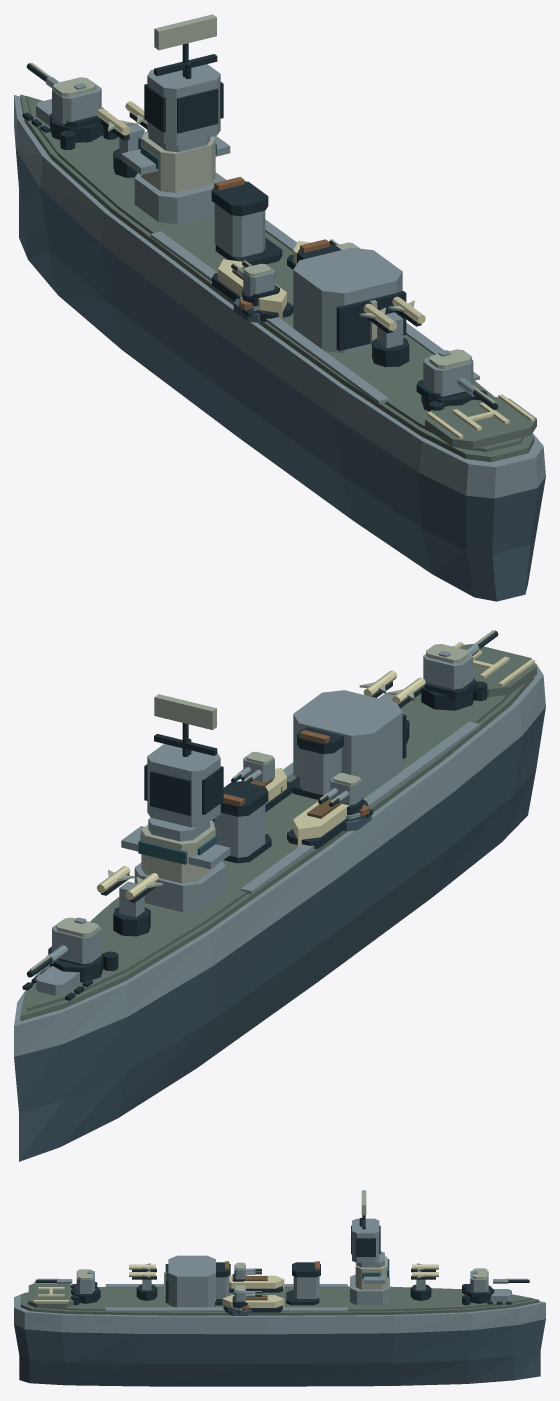
File: historic-kidd.glb
3 renders of one model, top to bottom at view 1: azimuth 30°, elevation 25°; view 2: azimuth 150°, elevation 25°; view 3: azimuth 270°, elevation 25°, orthographic. The views are drawn at different scales.
Visible parts, largest first — view 1: historic-kidd-historic-kidd-geometry, historic-kidd-part_bridge.142-geometry, historic-kidd-historic_funnel_0.135-geometry, historic-kidd-turret_main_0.111-geometry, historic-kidd-turret_main_1.102-geometry, historic-kidd-naval_launcher_1.012-geometry, historic-kidd-naval_launcher_0.017-geometry, historic-kidd-turret_aa_aa-port.144-geometry; view 2: historic-kidd-historic-kidd-geometry, historic-kidd-part_bridge.142-geometry, historic-kidd-historic_funnel_0.135-geometry, historic-kidd-turret_main_1.102-geometry, historic-kidd-turret_main_0.111-geometry, historic-kidd-historic_funnel_1.080-geometry, historic-kidd-naval_launcher_0.017-geometry, historic-kidd-naval_launcher_1.012-geometry, historic-kidd-turret_aa_aa-port.144-geometry, historic-kidd-turret_aa_aa-starboard.140-geometry; view 3: historic-kidd-historic-kidd-geometry, historic-kidd-part_bridge.142-geometry, historic-kidd-historic_funnel_0.135-geometry, historic-kidd-turret_main_0.111-geometry, historic-kidd-turret_main_1.102-geometry, historic-kidd-naval_launcher_0.017-geometry, historic-kidd-naval_launcher_1.012-geometry, historic-kidd-historic_funnel_1.080-geometry, historic-kidd-turret_aa_aa-starboard.140-geometry, historic-kidd-turret_aa_aa-port.144-geometry.
Boxes of the visible parts, x1,y1,x2,y2 form: historic-kidd-historic-kidd-geometry: (14, 94, 545, 601); historic-kidd-part_bridge.142-geometry: (121, 14, 230, 224); historic-kidd-historic_funnel_0.135-geometry: (211, 177, 282, 265); historic-kidd-turret_main_0.111-geometry: (26, 63, 107, 142); historic-kidd-turret_main_1.102-geometry: (416, 349, 498, 410); historic-kidd-naval_launcher_1.012-geometry: (359, 296, 425, 367); historic-kidd-naval_launcher_0.017-geometry: (96, 101, 147, 177); historic-kidd-turret_aa_aa-port.144-geometry: (231, 260, 279, 306); historic-kidd-historic-kidd-geometry: (14, 642, 545, 1161); historic-kidd-part_bridge.142-geometry: (121, 694, 230, 912); historic-kidd-historic_funnel_0.135-geometry: (214, 781, 271, 863); historic-kidd-turret_main_1.102-geometry: (421, 630, 498, 710); historic-kidd-turret_main_0.111-geometry: (26, 917, 103, 982); historic-kidd-historic_funnel_1.080-geometry: (291, 727, 343, 799); historic-kidd-naval_launcher_0.017-geometry: (96, 866, 162, 936); historic-kidd-naval_launcher_1.012-geometry: (359, 670, 425, 743); historic-kidd-turret_aa_aa-port.144-geometry: (318, 773, 363, 815); historic-kidd-turret_aa_aa-starboard.140-geometry: (231, 751, 274, 782); historic-kidd-historic-kidd-geometry: (14, 1255, 545, 1386); historic-kidd-part_bridge.142-geometry: (350, 1190, 389, 1305); historic-kidd-historic_funnel_0.135-geometry: (286, 1261, 320, 1305); historic-kidd-turret_main_0.111-geometry: (464, 1268, 529, 1303); historic-kidd-turret_main_1.102-geometry: (35, 1269, 100, 1303); historic-kidd-naval_launcher_0.017-geometry: (410, 1263, 438, 1300); historic-kidd-naval_launcher_1.012-geometry: (129, 1263, 157, 1300); historic-kidd-historic_funnel_1.080-geometry: (215, 1261, 230, 1305); historic-kidd-turret_aa_aa-starboard.140-geometry: (232, 1285, 261, 1308); historic-kidd-turret_aa_aa-port.144-geometry: (232, 1262, 261, 1281).
Bounding box in the file's own units: 0.5954 × 1.52 × 4.11.
